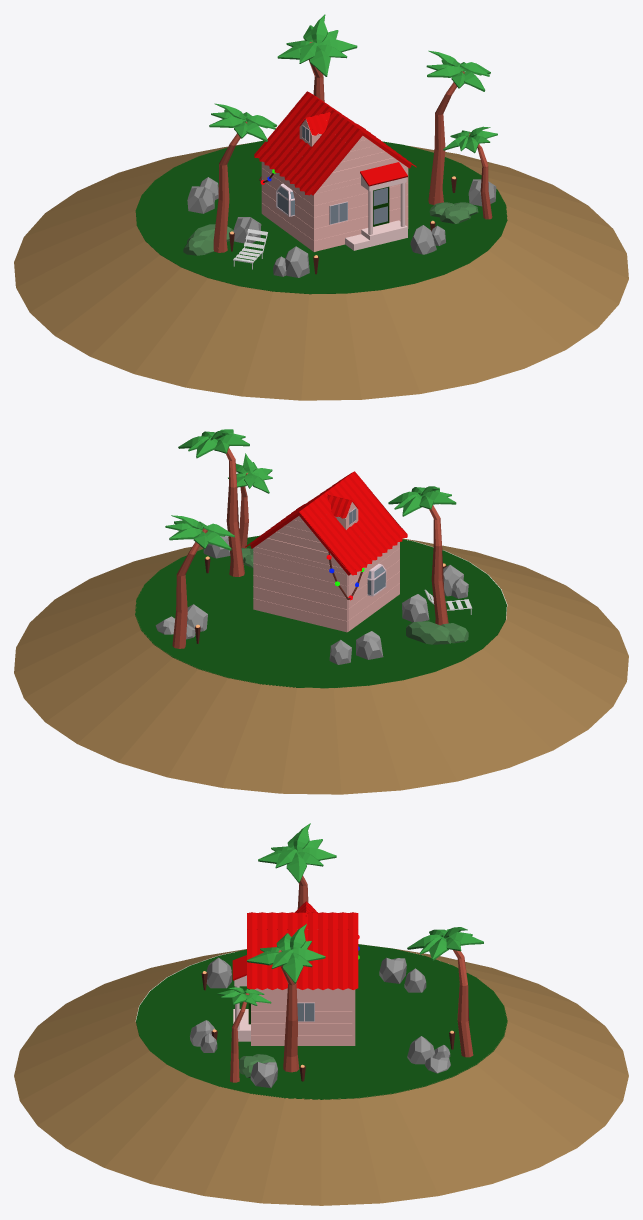
File: kame.glb
3 renders of one model, top to bottom at view 1: azimuth 30°, elevation 25°; view 2: azimuth 150°, elevation 25°; view 3: azimuth 270°, elevation 25°, orthographic.
Parts seen in each view (by area): view 1: Cylinder.007, Cylinder.014, Plane.037, Cube, Cube.045, Cylinder.001, Cylinder, Cube.005, Cube.009, Icosphere.008, Icosphere, Cube.010 (+4 smaller); view 2: Cylinder.007, Cylinder.014, Cube.023, Plane.037, Cube.045, Cylinder.001, Cylinder, Cylinder.003, Icosphere.011, Icosphere.008, Icosphere.010, Cube.002 (+1 smaller); view 3: Cylinder.007, Cylinder.014, Plane.136, Cube.040, Cylinder.001, Cylinder.003, Icosphere, Icosphere.001, Icosphere.008, Cylinder.002, Icosphere.007.
Boxes of the visible parts, bbox=[...] form: Cylinder.007: bbox=[14, 142, 628, 400]; Cylinder.014: bbox=[135, 140, 507, 294]; Plane.037: bbox=[254, 91, 362, 195]; Cube: bbox=[316, 136, 407, 251]; Cube.045: bbox=[263, 162, 316, 251]; Cylinder.001: bbox=[428, 71, 464, 204]; Cylinder: bbox=[213, 121, 247, 252]; Cube.005: bbox=[361, 220, 407, 246]; Cube.009: bbox=[360, 162, 407, 186]; Icosphere.008: bbox=[187, 186, 215, 213]; Icosphere: bbox=[285, 246, 309, 277]; Cube.010: bbox=[233, 229, 267, 269]; Cylinder.007: bbox=[14, 538, 628, 794]; Cylinder.014: bbox=[135, 535, 506, 688]; Cube.023: bbox=[253, 516, 348, 632]; Plane.037: bbox=[299, 471, 407, 575]; Cube.045: bbox=[348, 542, 399, 631]; Cylinder.001: bbox=[226, 448, 244, 576]; Cylinder: bbox=[429, 505, 448, 625]; Cylinder.003: bbox=[172, 528, 207, 648]; Icosphere.011: bbox=[406, 621, 451, 644]; Icosphere.008: bbox=[356, 631, 383, 659]; Icosphere.010: bbox=[402, 594, 429, 622]; Cube.002: bbox=[250, 473, 405, 575]; Cylinder.007: bbox=[14, 944, 628, 1205]; Cylinder.014: bbox=[136, 944, 507, 1099]; Plane.136: bbox=[247, 912, 358, 989]; Cube.040: bbox=[251, 988, 353, 1045]; Cylinder.001: bbox=[278, 950, 299, 1072]; Cylinder.003: bbox=[453, 950, 473, 1057]; Icosphere: bbox=[206, 957, 231, 988]; Icosphere.001: bbox=[250, 1062, 277, 1087]; Icosphere.008: bbox=[379, 957, 406, 983]; Cylinder.002: bbox=[230, 993, 249, 1082]; Icosphere.007: bbox=[407, 1036, 435, 1064].
Size of the model in its own units: 13.34 by 4.8 by 13.34.
